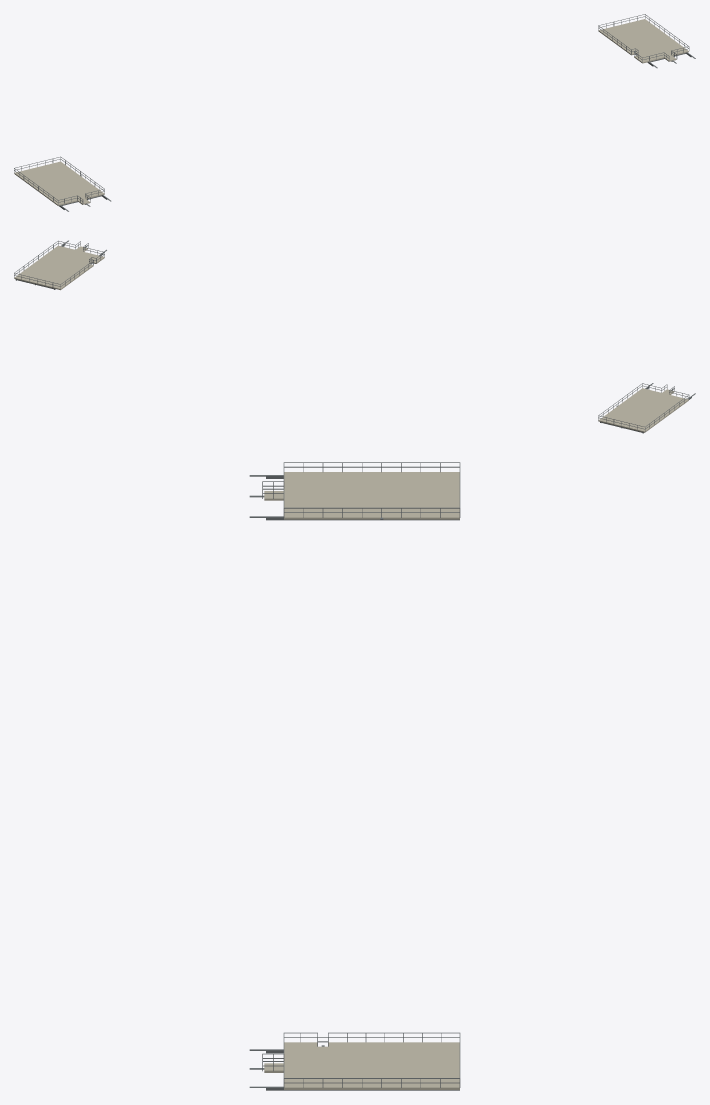
Rendered from FORWARD_ADJUNCT_FRAMES_r004.glb.
The picture shows the model from 3 angles, top to bottom: view 1: azimuth 30°, elevation 25°; view 2: azimuth 150°, elevation 25°; view 3: azimuth 270°, elevation 25°; orthographic projection. The views are drawn at different scales.
Parts seen in each view (by area): view 1: port_forward_upper_house_source_floor_0, starboard_forward_upper_house_source_floor_0, starboard_forward_upper_house_source_floor_1; view 2: port_forward_upper_house_source_floor_0, starboard_forward_upper_house_source_floor_0, starboard_forward_upper_house_source_floor_1; view 3: port_forward_upper_house_source_floor_0, starboard_forward_upper_house_source_floor_0, starboard_forward_upper_house_source_floor_1.
Boxes of the visible parts, <box> form: port_forward_upper_house_source_floor_0: <box>14,161,104,205</box>; starboard_forward_upper_house_source_floor_0: <box>598,19,677,55</box>; starboard_forward_upper_house_source_floor_1: <box>634,45,688,63</box>; port_forward_upper_house_source_floor_0: <box>598,388,688,432</box>; starboard_forward_upper_house_source_floor_0: <box>14,254,93,290</box>; starboard_forward_upper_house_source_floor_1: <box>50,245,104,263</box>; port_forward_upper_house_source_floor_0: <box>284,472,459,519</box>; starboard_forward_upper_house_source_floor_0: <box>328,1042,459,1089</box>; starboard_forward_upper_house_source_floor_1: <box>284,1042,317,1089</box>.
Size of the model in its own units: 149 by 1.58 by 21.53.
